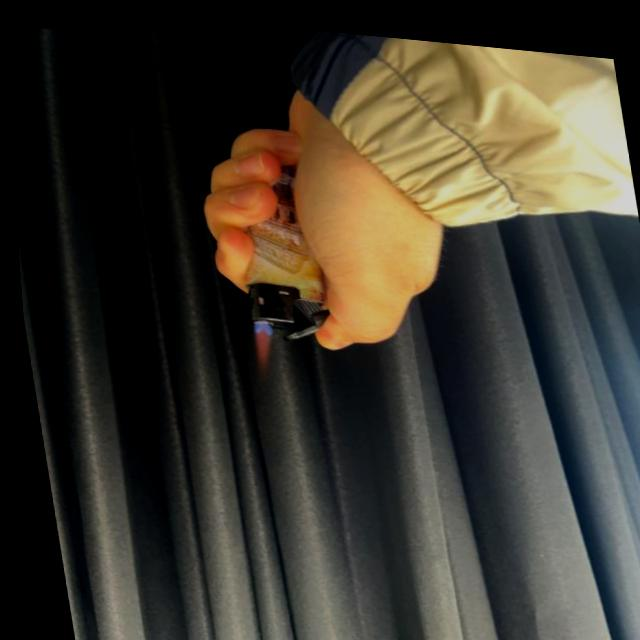Fire: (241, 315, 274, 379)
